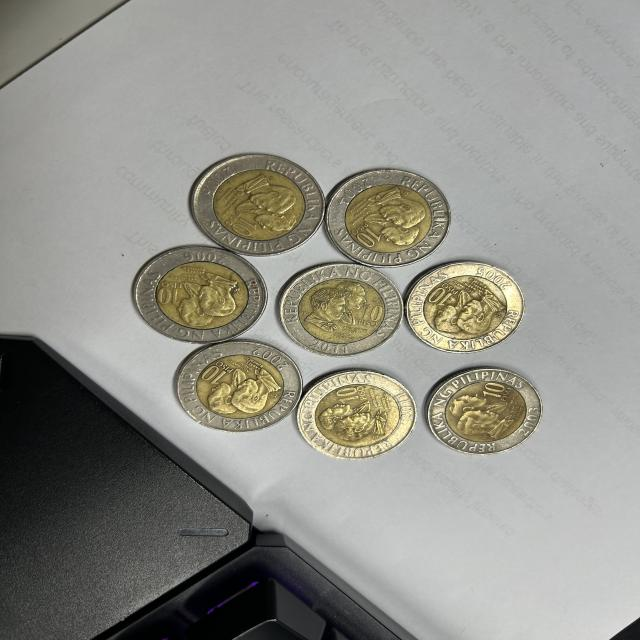10_Old_Front: (230, 216, 257, 236), (201, 366, 228, 385), (482, 381, 508, 400), (334, 386, 360, 404), (357, 228, 382, 246), (156, 288, 182, 304), (430, 288, 454, 305), (361, 304, 383, 318)
